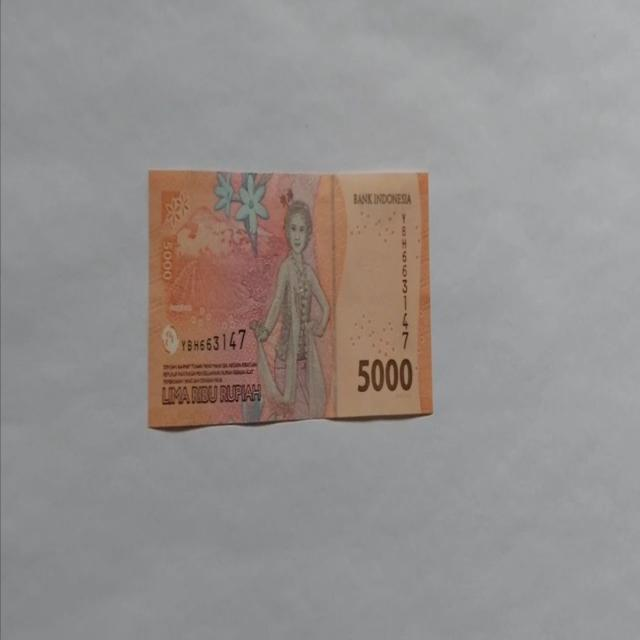lima ribu rupiah: (147, 167, 433, 429), (248, 198, 332, 420)
